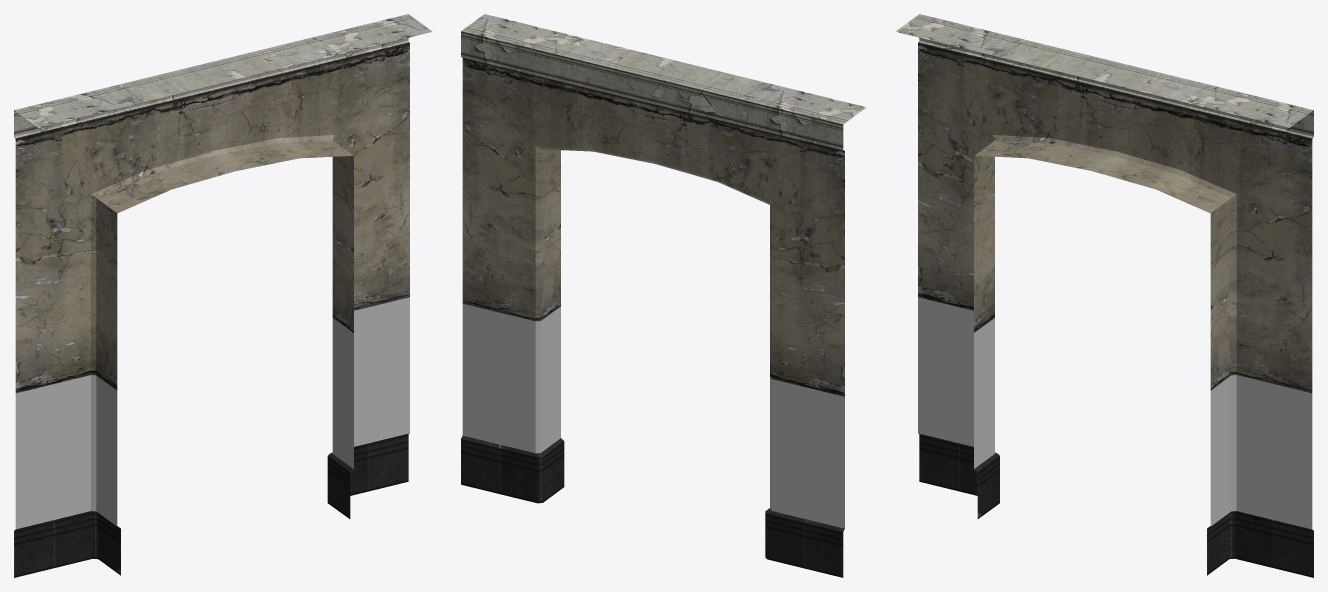
Rendered from urban_damaged_large_arched_doorway_wall.dae.
3 renders of one model, left to right at view 1: azimuth 30°, elevation 25°; view 2: azimuth 150°, elevation 25°; view 3: azimuth 330°, elevation 25°, orthographic. The views are drawn at different scales.
Visible parts, largest first — view 1: polySurface658, polySurface661, polySurface659, polySurface660, polySurface662, polySurface663; view 2: polySurface658, polySurface659, polySurface660, polySurface661, polySurface663, polySurface662; view 3: polySurface658, polySurface660, polySurface659, polySurface661, polySurface663, polySurface662.
Boxes of the visible parts, left/top/right/bottom form: polySurface658: left=15, top=43, right=409, bottom=393; polySurface661: left=15, top=375, right=117, bottom=529; polySurface659: left=14, top=14, right=432, bottom=139; polySurface660: left=332, top=297, right=409, bottom=468; polySurface662: left=14, top=511, right=120, bottom=577; polySurface663: left=327, top=433, right=409, bottom=518; polySurface658: left=462, top=58, right=844, bottom=396; polySurface659: left=461, top=14, right=866, bottom=150; polySurface660: left=462, top=303, right=560, bottom=453; polySurface661: left=770, top=377, right=844, bottom=528; polySurface663: left=461, top=435, right=564, bottom=503; polySurface662: left=765, top=508, right=844, bottom=577; polySurface658: left=918, top=43, right=1312, bottom=393; polySurface660: left=1210, top=375, right=1312, bottom=529; polySurface659: left=895, top=14, right=1313, bottom=139; polySurface661: left=918, top=297, right=994, bottom=468; polySurface663: left=1207, top=511, right=1313, bottom=577; polySurface662: left=918, top=433, right=999, bottom=518.
Bounding box in the file's own units: 3.75 × 4.25 × 0.4007.
